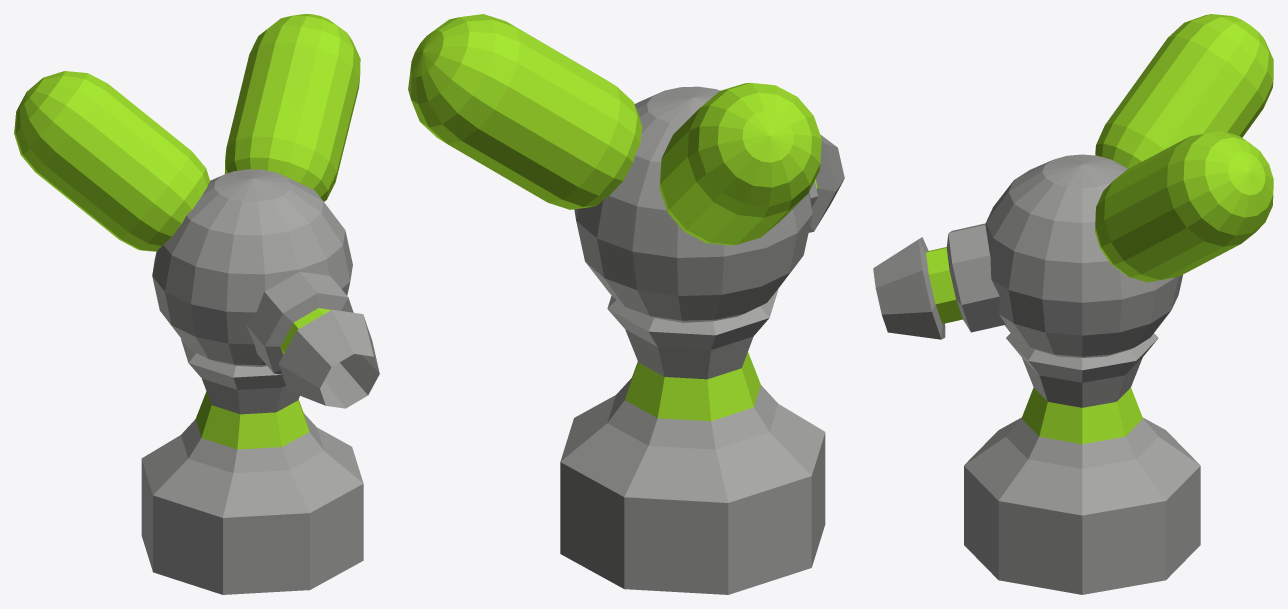
Rendered from Gel_Explosive_Upgraded.fbx.
3 views of the same model, side by side, from view 1: azimuth 30°, elevation 25°; view 2: azimuth 150°, elevation 25°; view 3: azimuth 270°, elevation 25° (orthographic). The views are drawn at different scales.
Visible parts, largest first — view 1: Circle; view 2: Circle; view 3: Circle.
Boxes of the visible parts, x1,y1,x2,y2 form: Circle: [14, 14, 379, 594]; Circle: [408, 14, 844, 594]; Circle: [873, 14, 1273, 594].
Bounding box in the file's own units: 515 × 674 × 524.
1 material, 1 textured.
